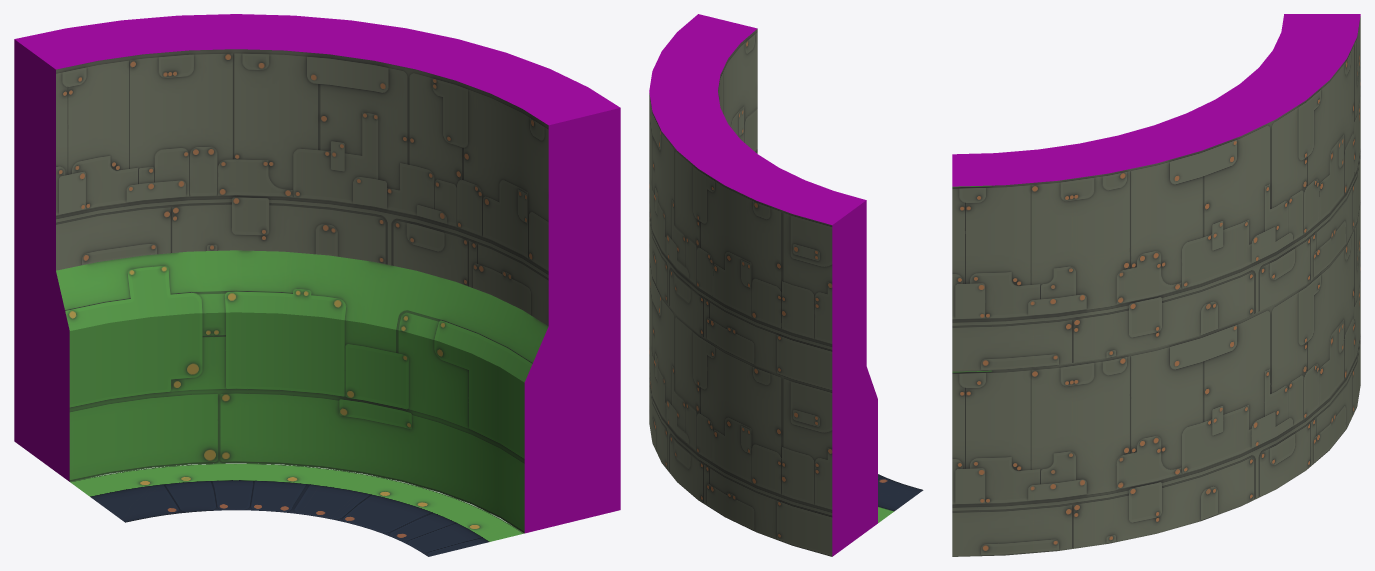
Rendered from Wall_Large_Corner_Outside_Top.fbx.
The picture shows the model from 3 angles, left to right: view 1: azimuth 30°, elevation 25°; view 2: azimuth 150°, elevation 25°; view 3: azimuth 270°, elevation 25°; orthographic projection. The views are drawn at different scales.
Parts seen in each view (by area): view 1: Wall_Large_Corner_Outside_Top, Wall_Large_Corner_Outside, Floor_Edge_Large_Corner_Outside; view 2: Wall_Large_Corner_Outside_Top, Wall_Large_Corner_Outside, Floor_Edge_Large_Corner_Outside; view 3: Wall_Large_Corner_Outside_Top, Wall_Large_Corner_Outside.
Boxes of the visible parts, <box> form: Wall_Large_Corner_Outside_Top: <box>14,14,620,326</box>; Wall_Large_Corner_Outside: <box>14,240,620,533</box>; Floor_Edge_Large_Corner_Outside: <box>70,463,523,556</box>; Wall_Large_Corner_Outside_Top: <box>649,14,866,390</box>; Wall_Large_Corner_Outside: <box>649,259,877,556</box>; Floor_Edge_Large_Corner_Outside: <box>878,474,923,522</box>; Wall_Large_Corner_Outside_Top: <box>952,14,1360,371</box>; Wall_Large_Corner_Outside: <box>952,201,1360,556</box>.
Bounding box in the file's own units: 200 × 200 × 200.
